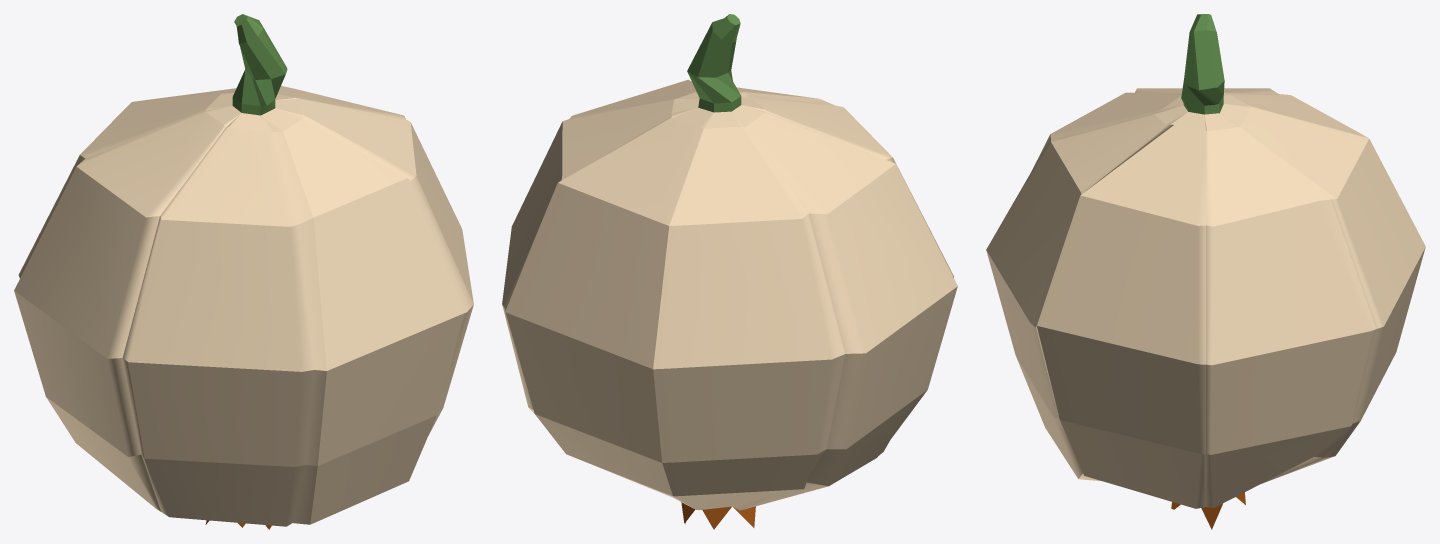
Rendered from Onion.fbx.
3 renders of one model, left to right at view 1: azimuth 30°, elevation 25°; view 2: azimuth 150°, elevation 25°; view 3: azimuth 270°, elevation 25°, orthographic. The views are drawn at different scales.
Parts seen in each view (by area): view 1: Onion; view 2: Onion; view 3: Onion.
Boxes of the visible parts, box(x1,y1,x2,y2) form: Onion: box(14, 14, 473, 529); Onion: box(502, 14, 957, 529); Onion: box(986, 14, 1425, 529).
Size of the model in its own units: 1.55 by 1.94 by 1.55.
